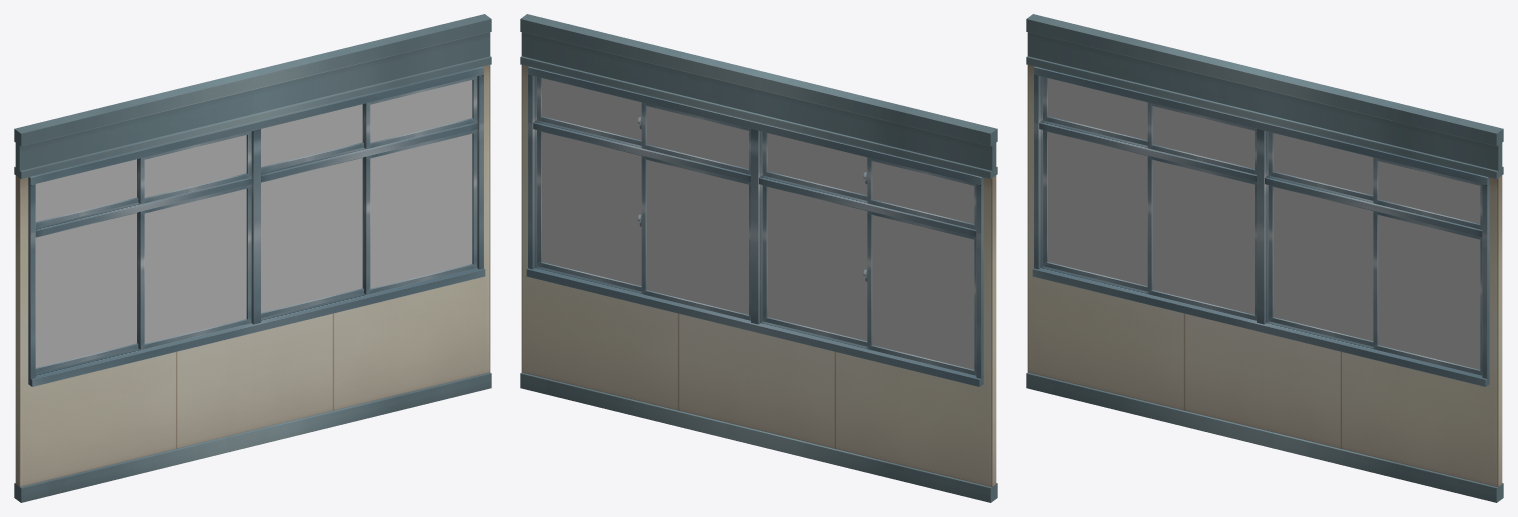
Rendered from KR_Window_01_01.fbx.
3 renders of one model, left to right at view 1: azimuth 30°, elevation 25°; view 2: azimuth 150°, elevation 25°; view 3: azimuth 330°, elevation 25°, orthographic.
Parts seen in each view (by area): view 1: wall01, glass02 (×8), window, window01_02, window01_04, window02_02, window02_04, window01_01, window01_03, window02_01, window02_03; view 2: wall01, glass01 (×8), window, window01_01, window01_03, window01_02, window01_04, window02_01, window02_03, window02_02, window02_04; view 3: wall01, glass02 (×8), window, window01_04, window01_02, window01_03, window01_01, window02_04, window02_02, window02_03, window02_01.
Boxes of the visible parts, bbox=[...] form: wall01: bbox=[14, 14, 491, 502]; glass02 (×8): bbox=[35, 80, 472, 367]; window: bbox=[28, 66, 485, 386]; window01_02: bbox=[138, 184, 251, 349]; window01_04: bbox=[364, 129, 477, 294]; window02_02: bbox=[138, 131, 251, 204]; window02_04: bbox=[364, 76, 477, 149]; window01_01: bbox=[35, 212, 138, 372]; window01_03: bbox=[261, 157, 363, 318]; window02_01: bbox=[35, 159, 138, 227]; window02_03: bbox=[261, 104, 363, 172]; wall01: bbox=[520, 14, 997, 502]; glass01 (×8): bbox=[542, 78, 974, 369]; window: bbox=[526, 66, 983, 386]; window01_01: bbox=[866, 210, 976, 375]; window01_03: bbox=[641, 155, 750, 320]; window01_02: bbox=[762, 185, 867, 346]; window01_04: bbox=[537, 130, 641, 291]; window02_01: bbox=[866, 157, 976, 229]; window02_03: bbox=[641, 102, 750, 174]; window02_02: bbox=[762, 132, 867, 200]; window02_04: bbox=[537, 77, 641, 145]; wall01: bbox=[1026, 14, 1503, 502]; glass02 (×8): bbox=[1048, 78, 1480, 369]; window: bbox=[1032, 66, 1489, 386]; window01_04: bbox=[1373, 210, 1482, 375]; window01_02: bbox=[1147, 155, 1256, 320]; window01_03: bbox=[1268, 185, 1373, 346]; window01_01: bbox=[1043, 130, 1147, 291]; window02_04: bbox=[1373, 157, 1482, 229]; window02_02: bbox=[1147, 102, 1256, 174]; window02_03: bbox=[1268, 132, 1373, 200]; window02_01: bbox=[1043, 77, 1147, 145].
Bounding box in the file's own units: 400 × 300 × 17.
